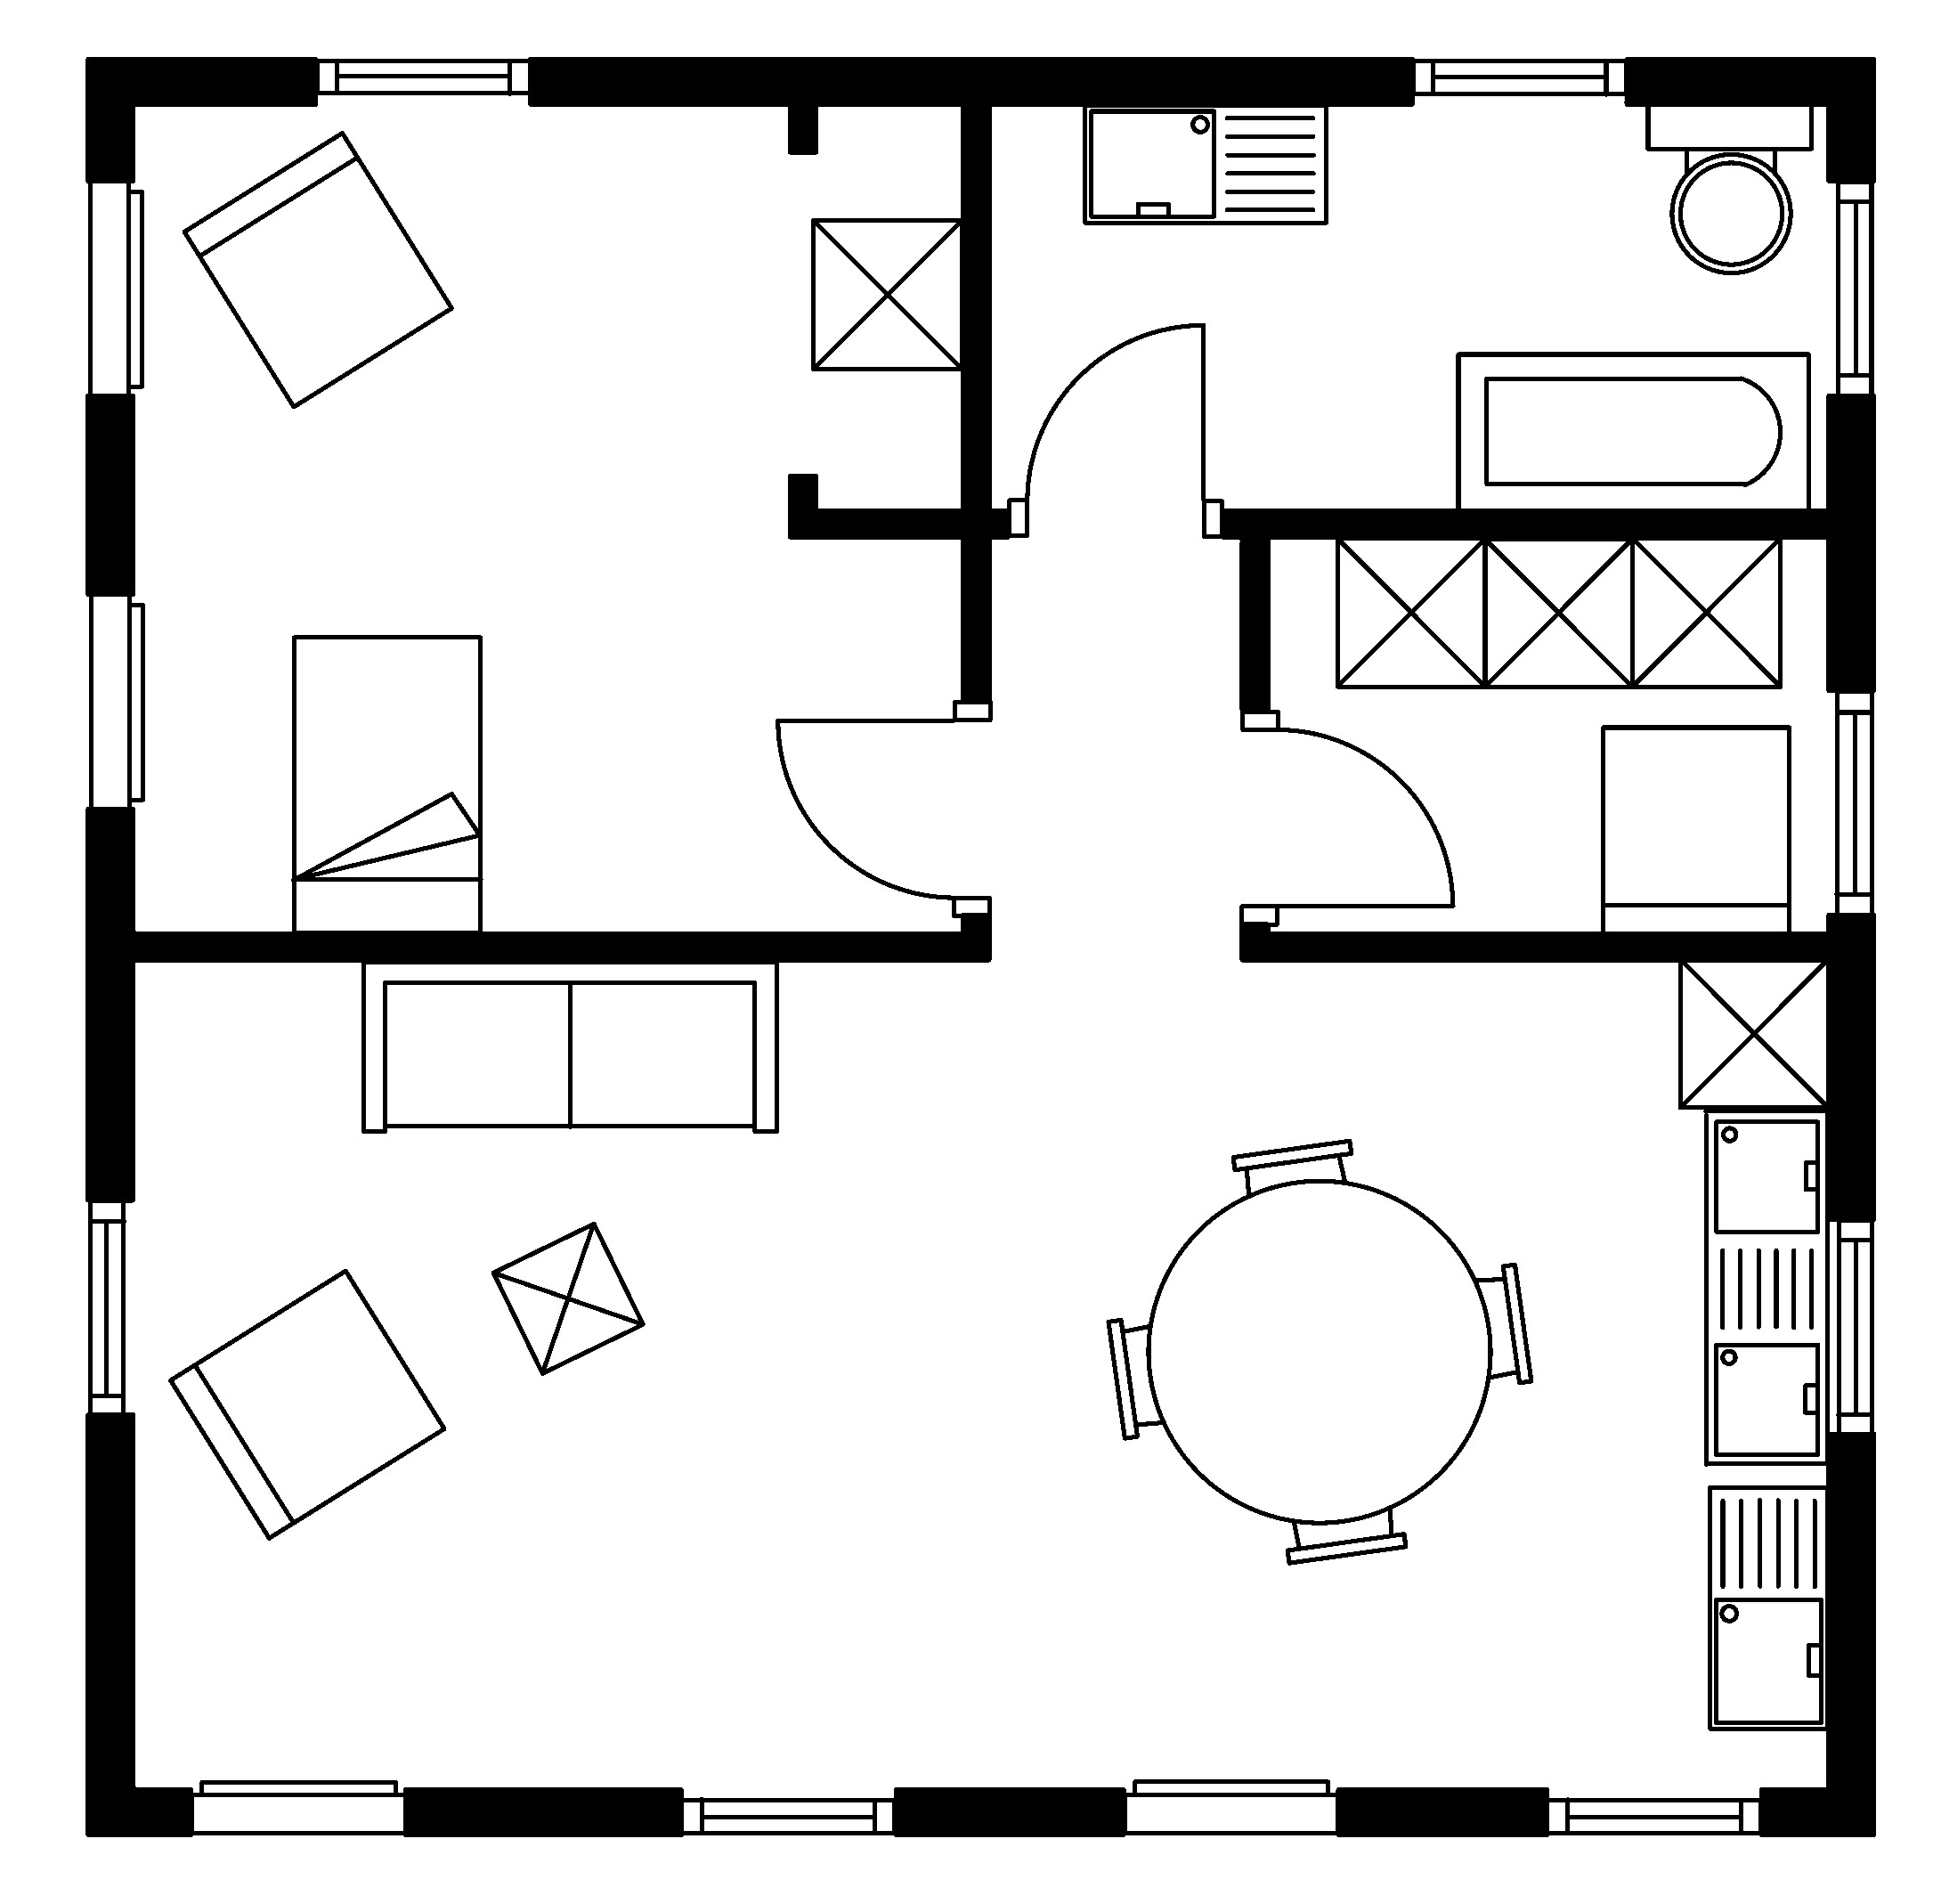bed: (289, 633, 483, 935)
coffee_table: (809, 216, 966, 371), (488, 1221, 645, 1376), (1480, 534, 1635, 689), (1628, 534, 1783, 689), (1333, 534, 1489, 689), (1675, 955, 1830, 1111)
large_sink: (1644, 101, 1814, 274)
large_sofa: (359, 959, 779, 1135)
round_table: (1103, 1137, 1534, 1566)
sink: (1081, 101, 1328, 225), (1706, 1484, 1830, 1731)
small_sofa: (180, 129, 455, 410), (167, 1268, 446, 1541), (1598, 724, 1792, 936)
tub: (1454, 350, 1811, 513)
twin_sink: (1701, 1107, 1830, 1468)
